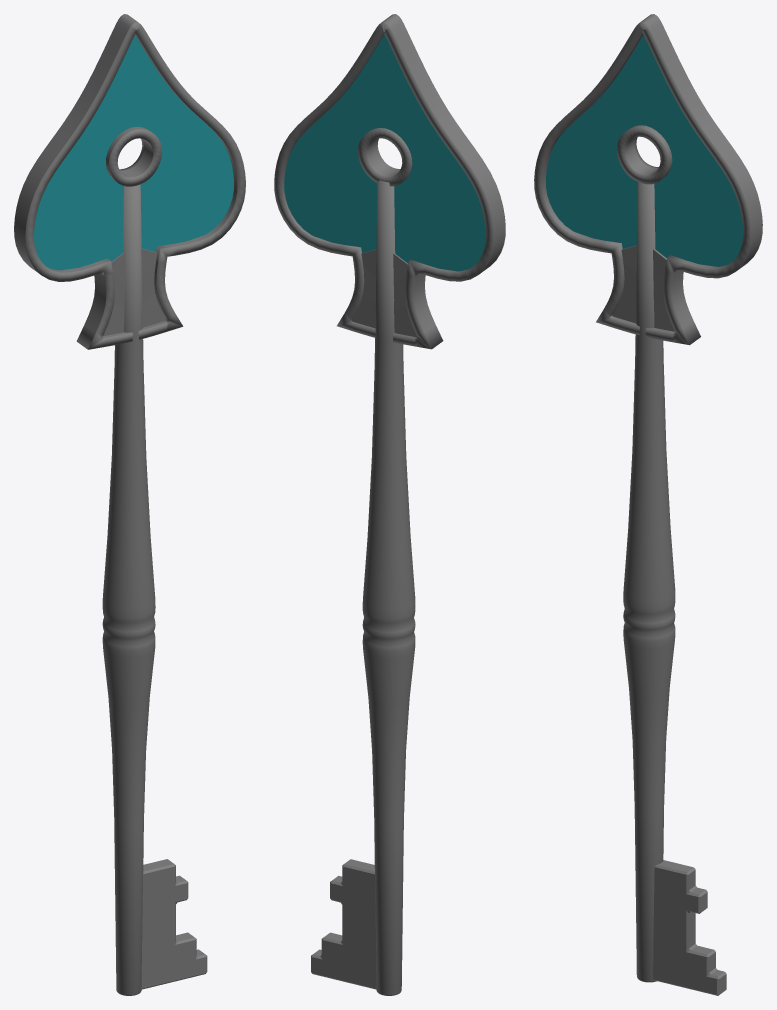
Rendered from Key.fbx.
The picture shows the model from 3 angles, left to right: view 1: azimuth 30°, elevation 25°; view 2: azimuth 150°, elevation 25°; view 3: azimuth 330°, elevation 25°; orthographic projection.
Visible parts, largest first — view 1: Cylinder, Plane, Plane.001, Cube, Plane.002; view 2: Cylinder, Plane, Plane.001, Cube, Plane.002; view 3: Cylinder, Plane, Plane.001, Cube, Plane.002.
Part boxes in pixels (x1,y1,x2,y2): Cylinder: [102, 184, 155, 995]; Plane: [34, 35, 233, 270]; Plane.001: [14, 14, 245, 349]; Cube: [141, 859, 207, 989]; Plane.002: [103, 248, 166, 335]; Cylinder: [362, 180, 415, 995]; Plane: [284, 34, 485, 271]; Plane.001: [274, 14, 505, 349]; Cube: [311, 859, 376, 989]; Plane.002: [351, 249, 417, 337]; Cylinder: [623, 182, 675, 982]; Plane: [546, 35, 742, 266]; Plane.001: [534, 14, 762, 345]; Cube: [653, 860, 726, 995]; Plane.002: [612, 245, 674, 331].
Bounding box in the file's own units: 392 × 1654 × 81.64.
